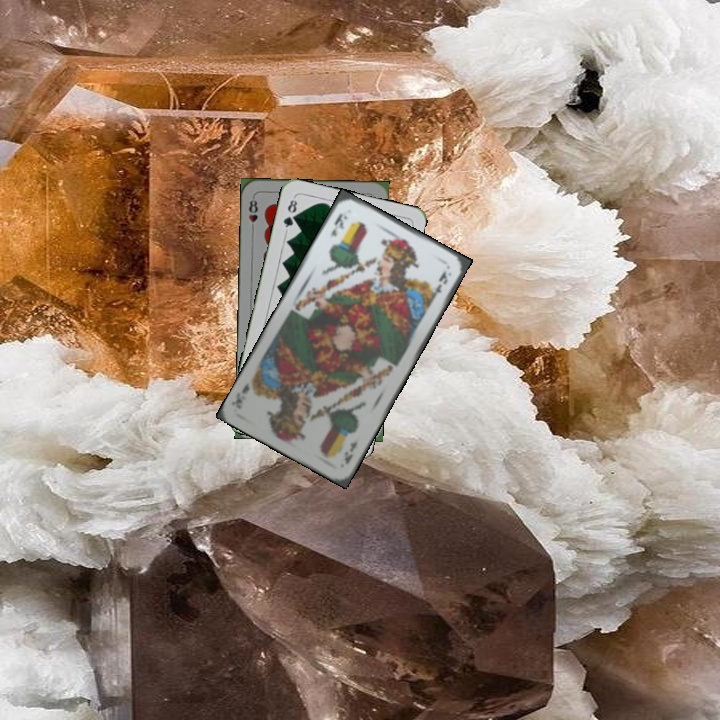EK: (327, 209, 350, 239), (340, 437, 360, 467)
G8: (279, 193, 300, 234)
H8: (245, 193, 260, 234)
